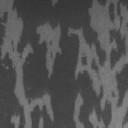red iron: (0, 0, 128, 128), (121, 108, 128, 128)
